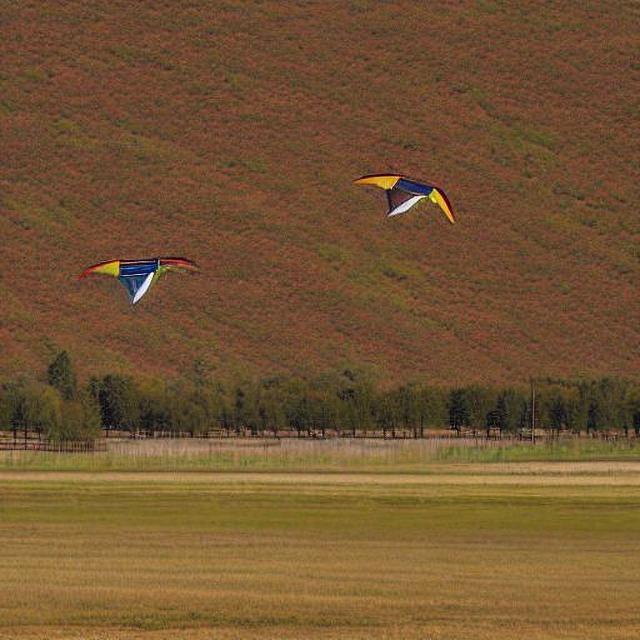floating object: (72, 255, 204, 305), (354, 170, 458, 224)
